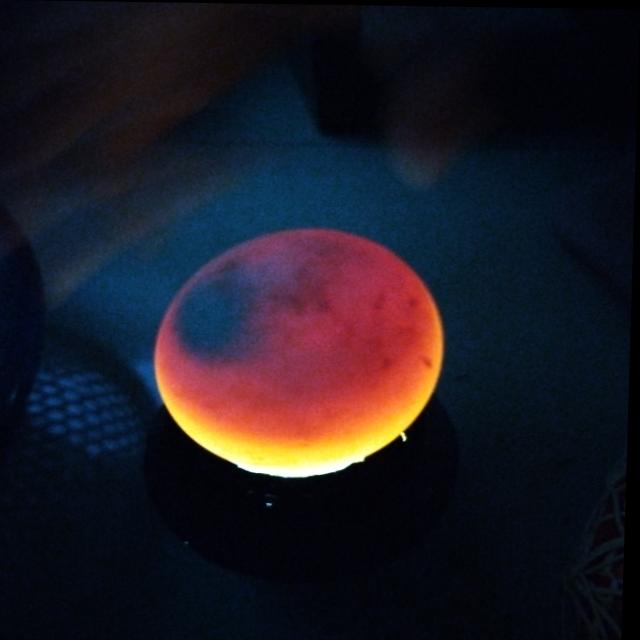Area Infectada: (172, 241, 338, 365)
